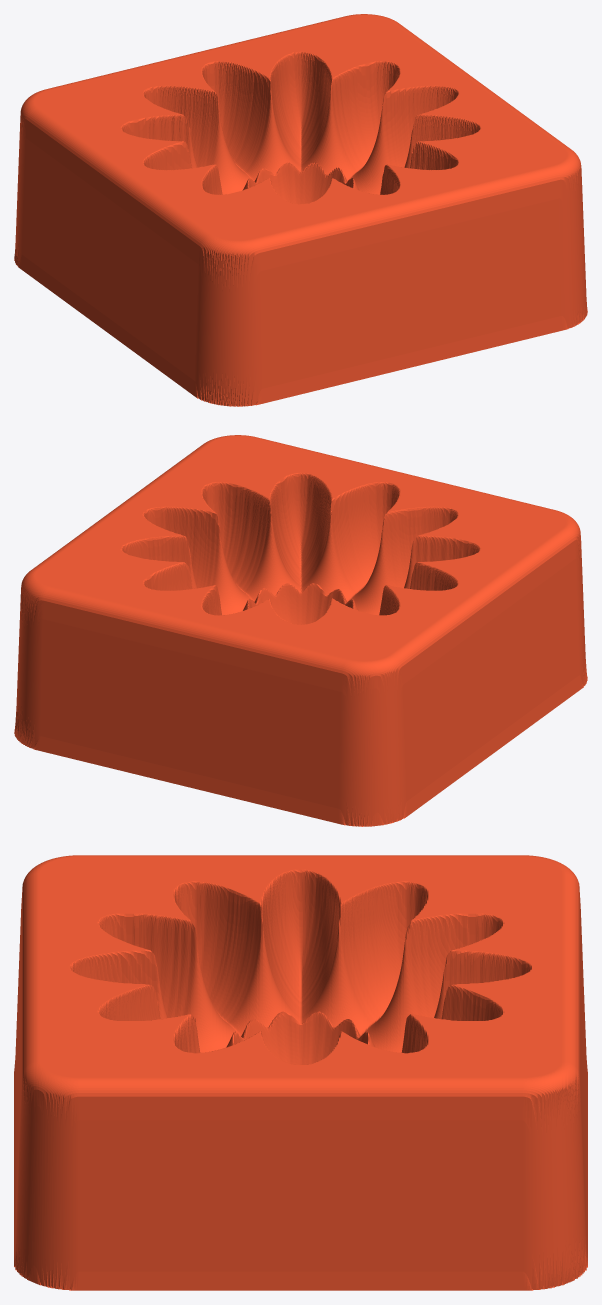
File: mold.glb
3 views of the same model, one above another, from view 1: azimuth 30°, elevation 25°; view 2: azimuth 150°, elevation 25°; view 3: azimuth 270°, elevation 25° (orthographic). The views are drawn at different scales.
Visible parts, largest first — view 1: geometry_0; view 2: geometry_0; view 3: geometry_0.
Boxes of the visible parts, x1=… form: geometry_0: x1=14, y1=14, x2=587, y2=406; geometry_0: x1=14, y1=435, x2=587, y2=826; geometry_0: x1=14, y1=855, x2=587, y2=1290.
Size of the model in its own units: 0.0798 by 0.031 by 0.0798.
